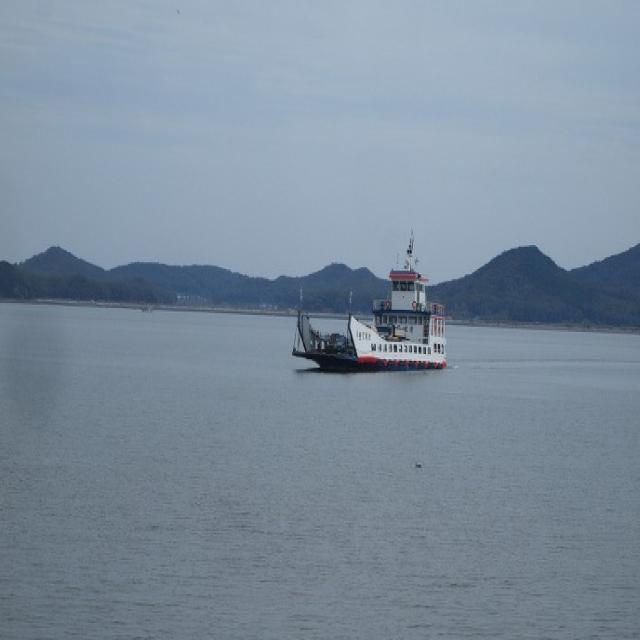cargoship: (308, 243, 447, 383)
